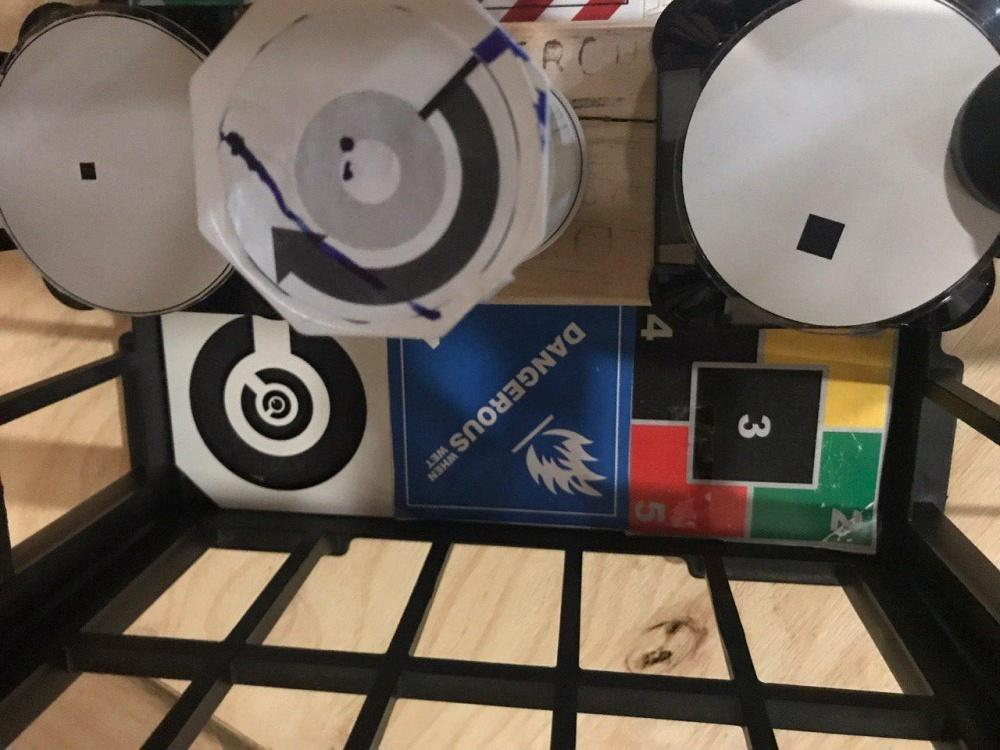dangerous-when-wet: (384, 300, 631, 519)
